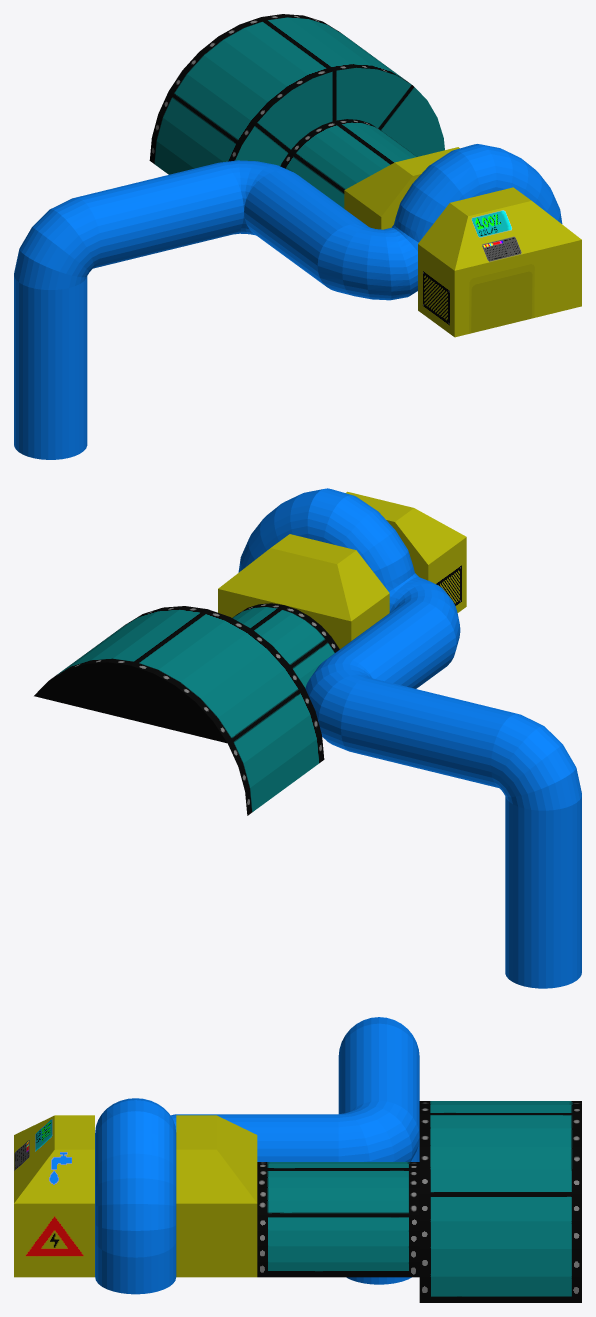
File: utilities.gltf
3 renders of one model, top to bottom at view 1: azimuth 30°, elevation 25°; view 2: azimuth 150°, elevation 25°; view 3: azimuth 270°, elevation 25°, orthographic. The views are drawn at different scales.
Visible parts, largest first — view 1: water_pump4, power_generator1, water_pump1, water_pump2, water_pump3, power_generator2; view 2: water_pump4, power_generator1, water_pump1, water_pump2, water_pump3, power_generator2; view 3: power_generator1, water_pump1, power_generator2, water_pump2, water_pump4, water_pump3.
Boxes of the visible parts, left/top/right/bottom form: water_pump4: left=14, top=160, right=291, bottom=459; power_generator1: left=149, top=14, right=444, bottom=174; water_pump1: left=344, top=147, right=581, bottom=337; water_pump2: left=317, top=144, right=562, bottom=300; water_pump3: left=244, top=170, right=367, bottom=286; power_generator2: left=280, top=119, right=416, bottom=208; water_pump4: left=305, top=657, right=581, bottom=988; power_generator1: left=34, top=606, right=324, bottom=815; water_pump1: left=218, top=491, right=466, bottom=648; water_pump2: left=238, top=488, right=460, bottom=649; water_pump3: left=325, top=600, right=456, bottom=688; power_generator2: left=232, top=603, right=339, bottom=687; power_generator1: left=419, top=1101, right=581, bottom=1302; water_pump1: left=14, top=1115, right=257, bottom=1277; power_generator2: left=257, top=1162, right=419, bottom=1277; water_pump2: left=95, top=1098, right=176, bottom=1294; water_pump4: left=338, top=1017, right=419, bottom=1284; water_pump3: left=176, top=1114, right=338, bottom=1161.
Size of the model in its own units: 28 by 18 by 28.
2 materials, 2 textured.
